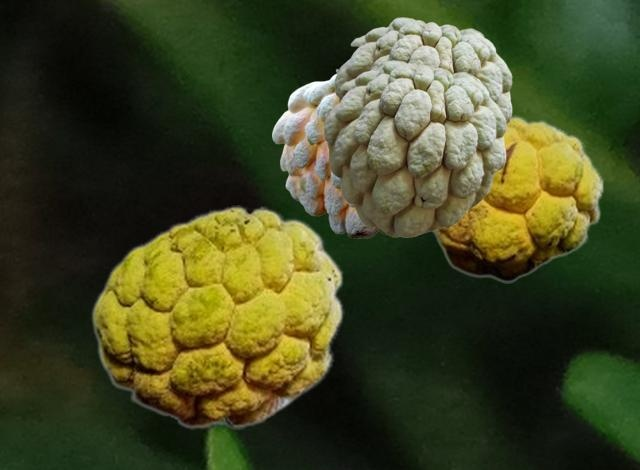atis: (90, 205, 343, 428), (323, 60, 505, 236), (431, 115, 603, 282), (334, 17, 511, 124), (272, 73, 384, 237)
